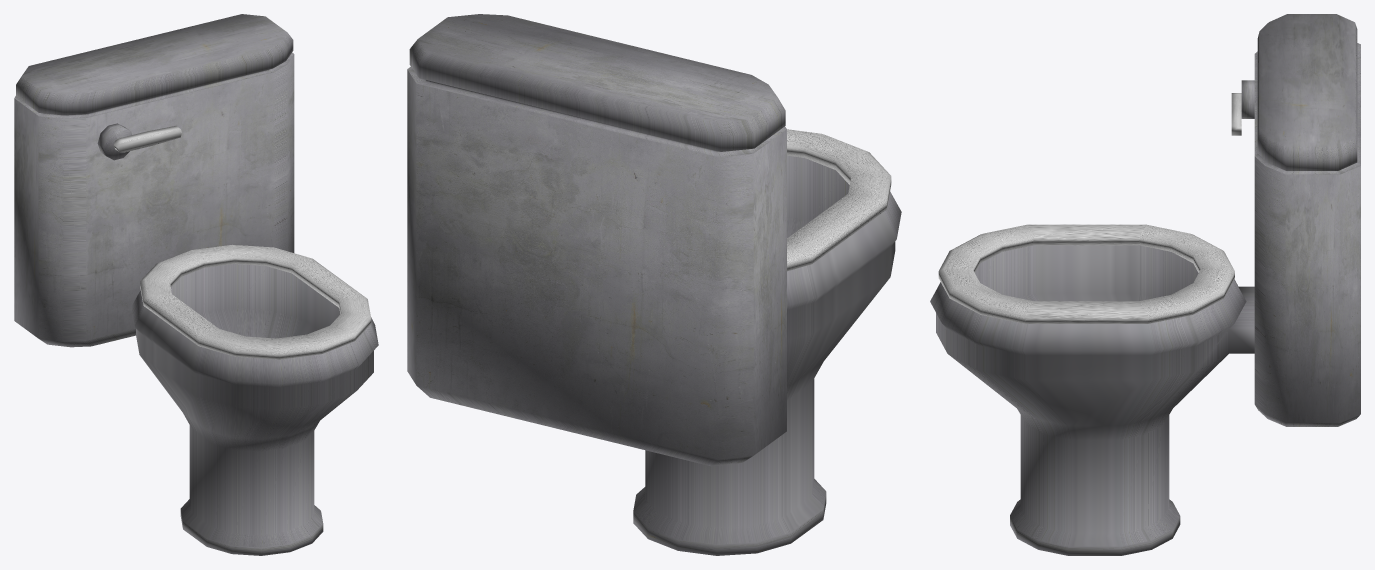
File: toilet.fbx
The picture shows the model from 3 angles, left to right: view 1: azimuth 30°, elevation 25°; view 2: azimuth 150°, elevation 25°; view 3: azimuth 270°, elevation 25°; orthographic projection. The views are drawn at different scales.
Parts seen in each view (by area): view 1: Box003, Cylinder003, Tube001, Box001, Cylinder002; view 2: Box003, Cylinder003, Tube001; view 3: Cylinder003, Box003, Tube001, Cylinder002.
Part boxes in pixels (x1=…): Box003: x1=14, y1=14, x2=294, y2=347; Cylinder003: x1=131, y1=264, x2=378, y2=555; Tube001: x1=140, y1=244, x2=371, y2=359; Box001: x1=114, y1=126, x2=181, y2=152; Cylinder002: x1=97, y1=123, x2=131, y2=160; Box003: x1=407, y1=14, x2=786, y2=466; Cylinder003: x1=633, y1=155, x2=901, y2=555; Tube001: x1=787, y1=129, x2=891, y2=271; Cylinder003: x1=930, y1=245, x2=1254, y2=555; Box003: x1=1254, y1=14, x2=1360, y2=426; Tube001: x1=938, y1=224, x2=1234, y2=323; Cylinder002: x1=1241, y1=80, x2=1254, y2=118.
Size of the model in its own units: 48 by 71.64 by 62.92.
Materials: 3 (3 with a texture image).
